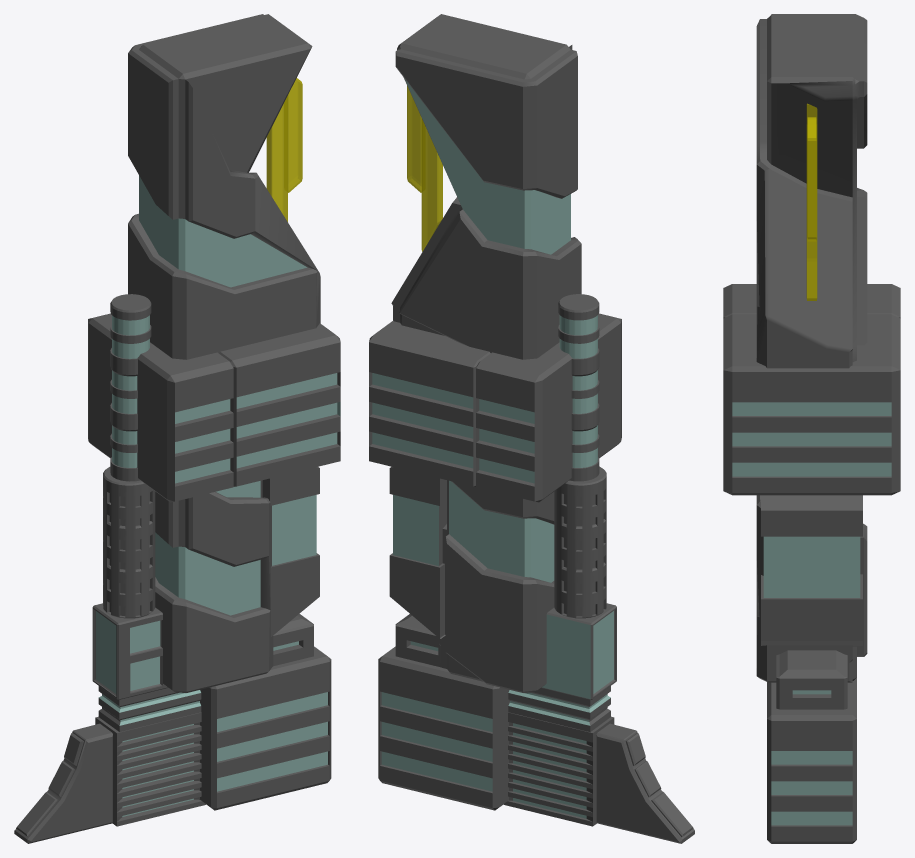
Rendered from Tall Building 1.fbx.
The picture shows the model from 3 angles, left to right: view 1: azimuth 30°, elevation 25°; view 2: azimuth 150°, elevation 25°; view 3: azimuth 270°, elevation 25°; orthographic projection.
Parts seen in each view (by area): view 1: pCube988; view 2: pCube988; view 3: pCube988.
Part boxes in pixels (bbox=[...]): pCube988: bbox=[14, 14, 340, 843]; pCube988: bbox=[369, 14, 694, 843]; pCube988: bbox=[723, 14, 900, 843].
Bounding box in the file's own units: 90.57 × 222 × 47.03.
